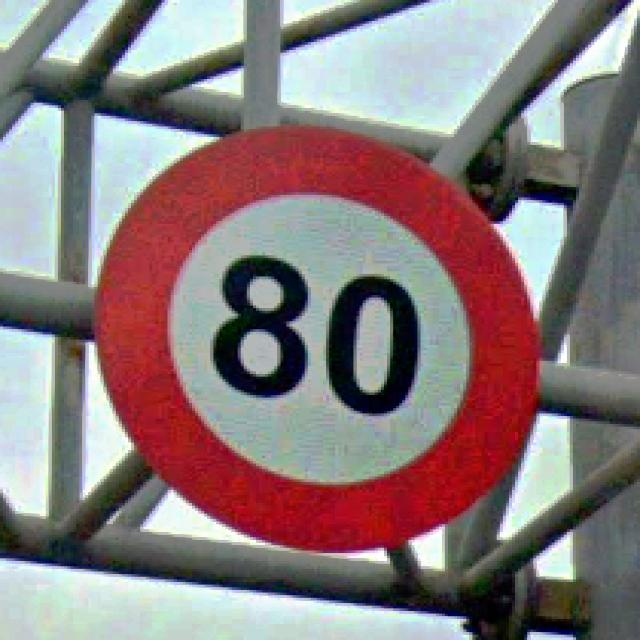max80: (89, 121, 542, 553)
